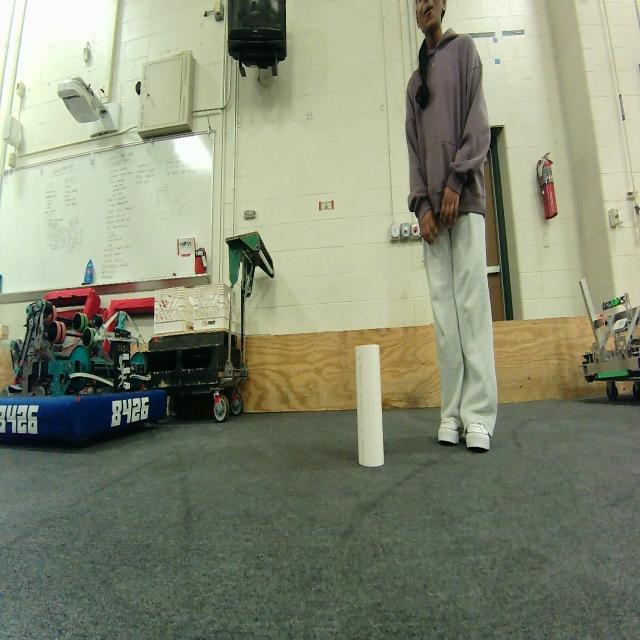coral: (355, 344, 384, 468)
